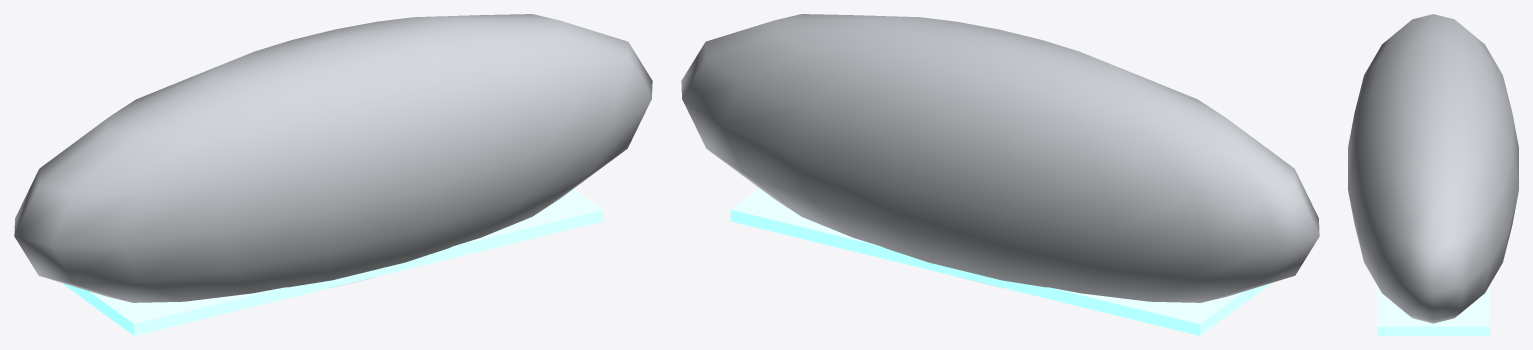
File: bus_2038.glb
The picture shows the model from 3 angles, left to right: view 1: azimuth 30°, elevation 25°; view 2: azimuth 150°, elevation 25°; view 3: azimuth 270°, elevation 25°; orthographic projection. The views are drawn at different scales.
Parts seen in each view (by area): view 1: Pod, Glow; view 2: Pod, Glow; view 3: Pod, Glow.
Boxes of the visible parts, <box> form: Pod: <box>14,14,652,302</box>; Glow: <box>63,188,603,335</box>; Pod: <box>681,14,1319,302</box>; Glow: <box>730,188,1270,335</box>; Pod: <box>1348,14,1518,323</box>; Glow: <box>1377,285,1489,335</box>.
Bounding box in the file's own units: 0.68 × 0.24 × 0.197.
